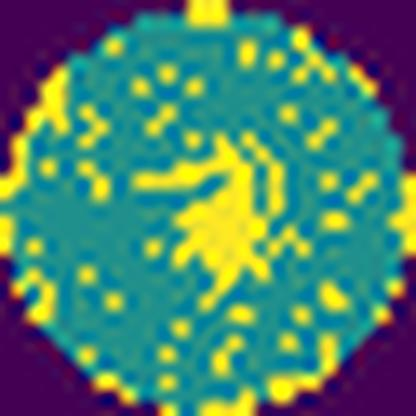Center: (132, 129, 277, 312)
